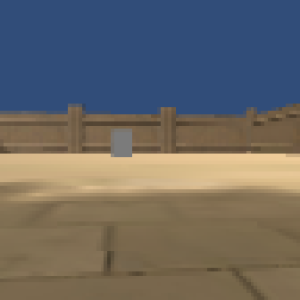wall: (110, 127, 134, 160)
